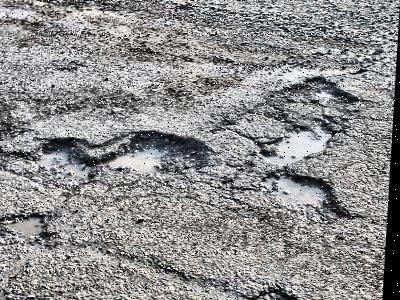pothole: (101, 127, 215, 181), (258, 169, 353, 221), (251, 118, 340, 163), (31, 134, 103, 189), (283, 74, 364, 109), (5, 209, 59, 245), (252, 285, 305, 299)
